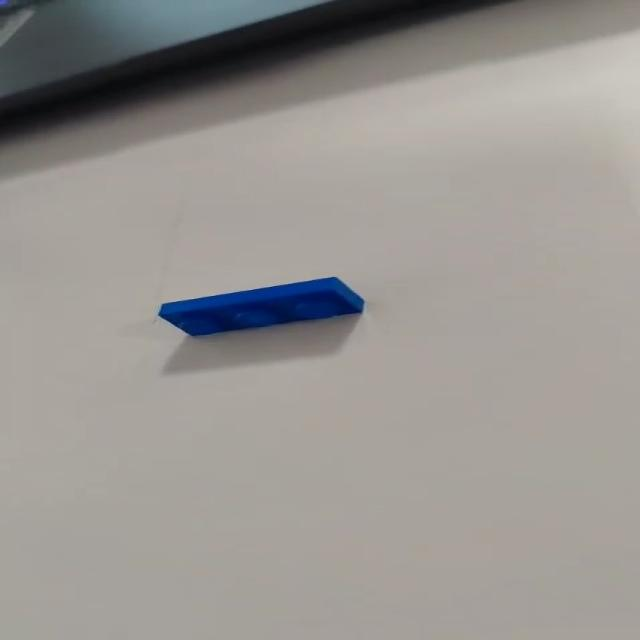C3x1x0: (154, 274, 365, 337)
